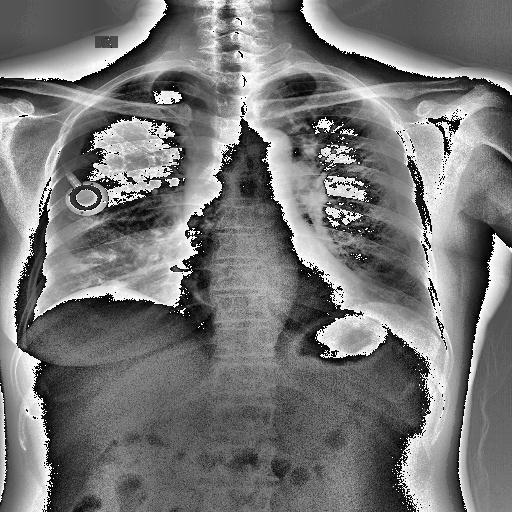13- Pulmonary fibrosis: (71, 210, 199, 302), (58, 232, 178, 290), (284, 118, 376, 170), (296, 123, 364, 162)
2- Calcification: (71, 210, 199, 302), (58, 232, 178, 290), (284, 118, 376, 170), (296, 123, 364, 162), (105, 282, 127, 290), (168, 264, 184, 274)
